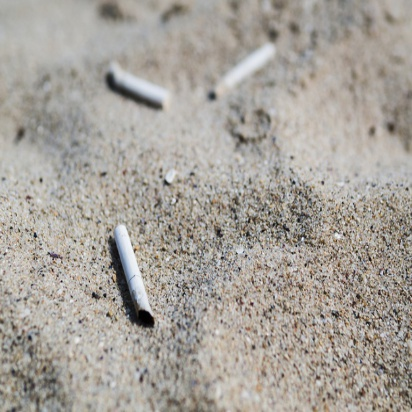cigarette: (105, 219, 160, 336), (206, 38, 279, 103), (105, 60, 179, 114)
